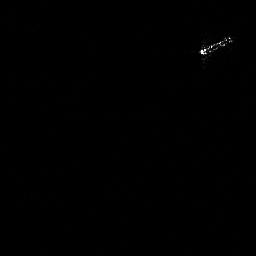ship: (196, 32, 235, 58)
